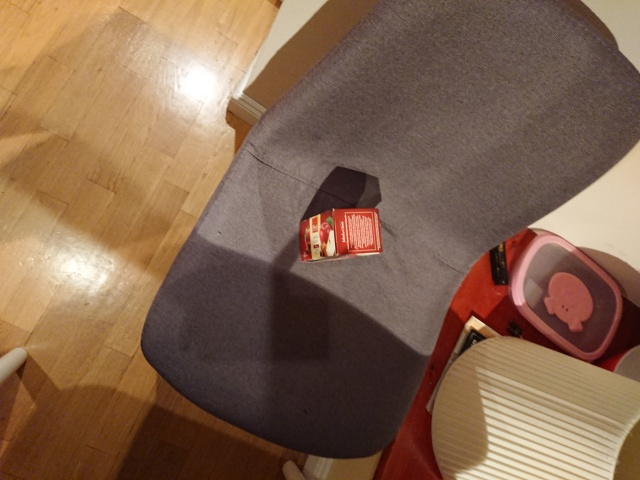Franck Apple Cinnamon Tea 60g: (295, 205, 385, 265)
